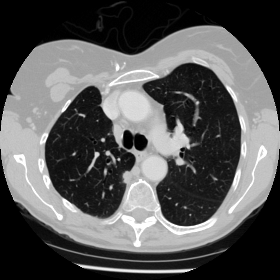nodule: (120, 170, 132, 182)
